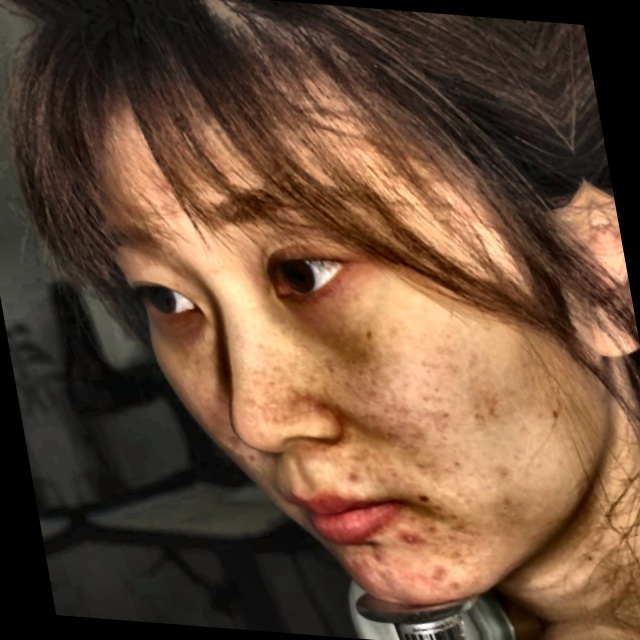comedone: (389, 524, 437, 555), (420, 556, 458, 588), (368, 544, 397, 571)
